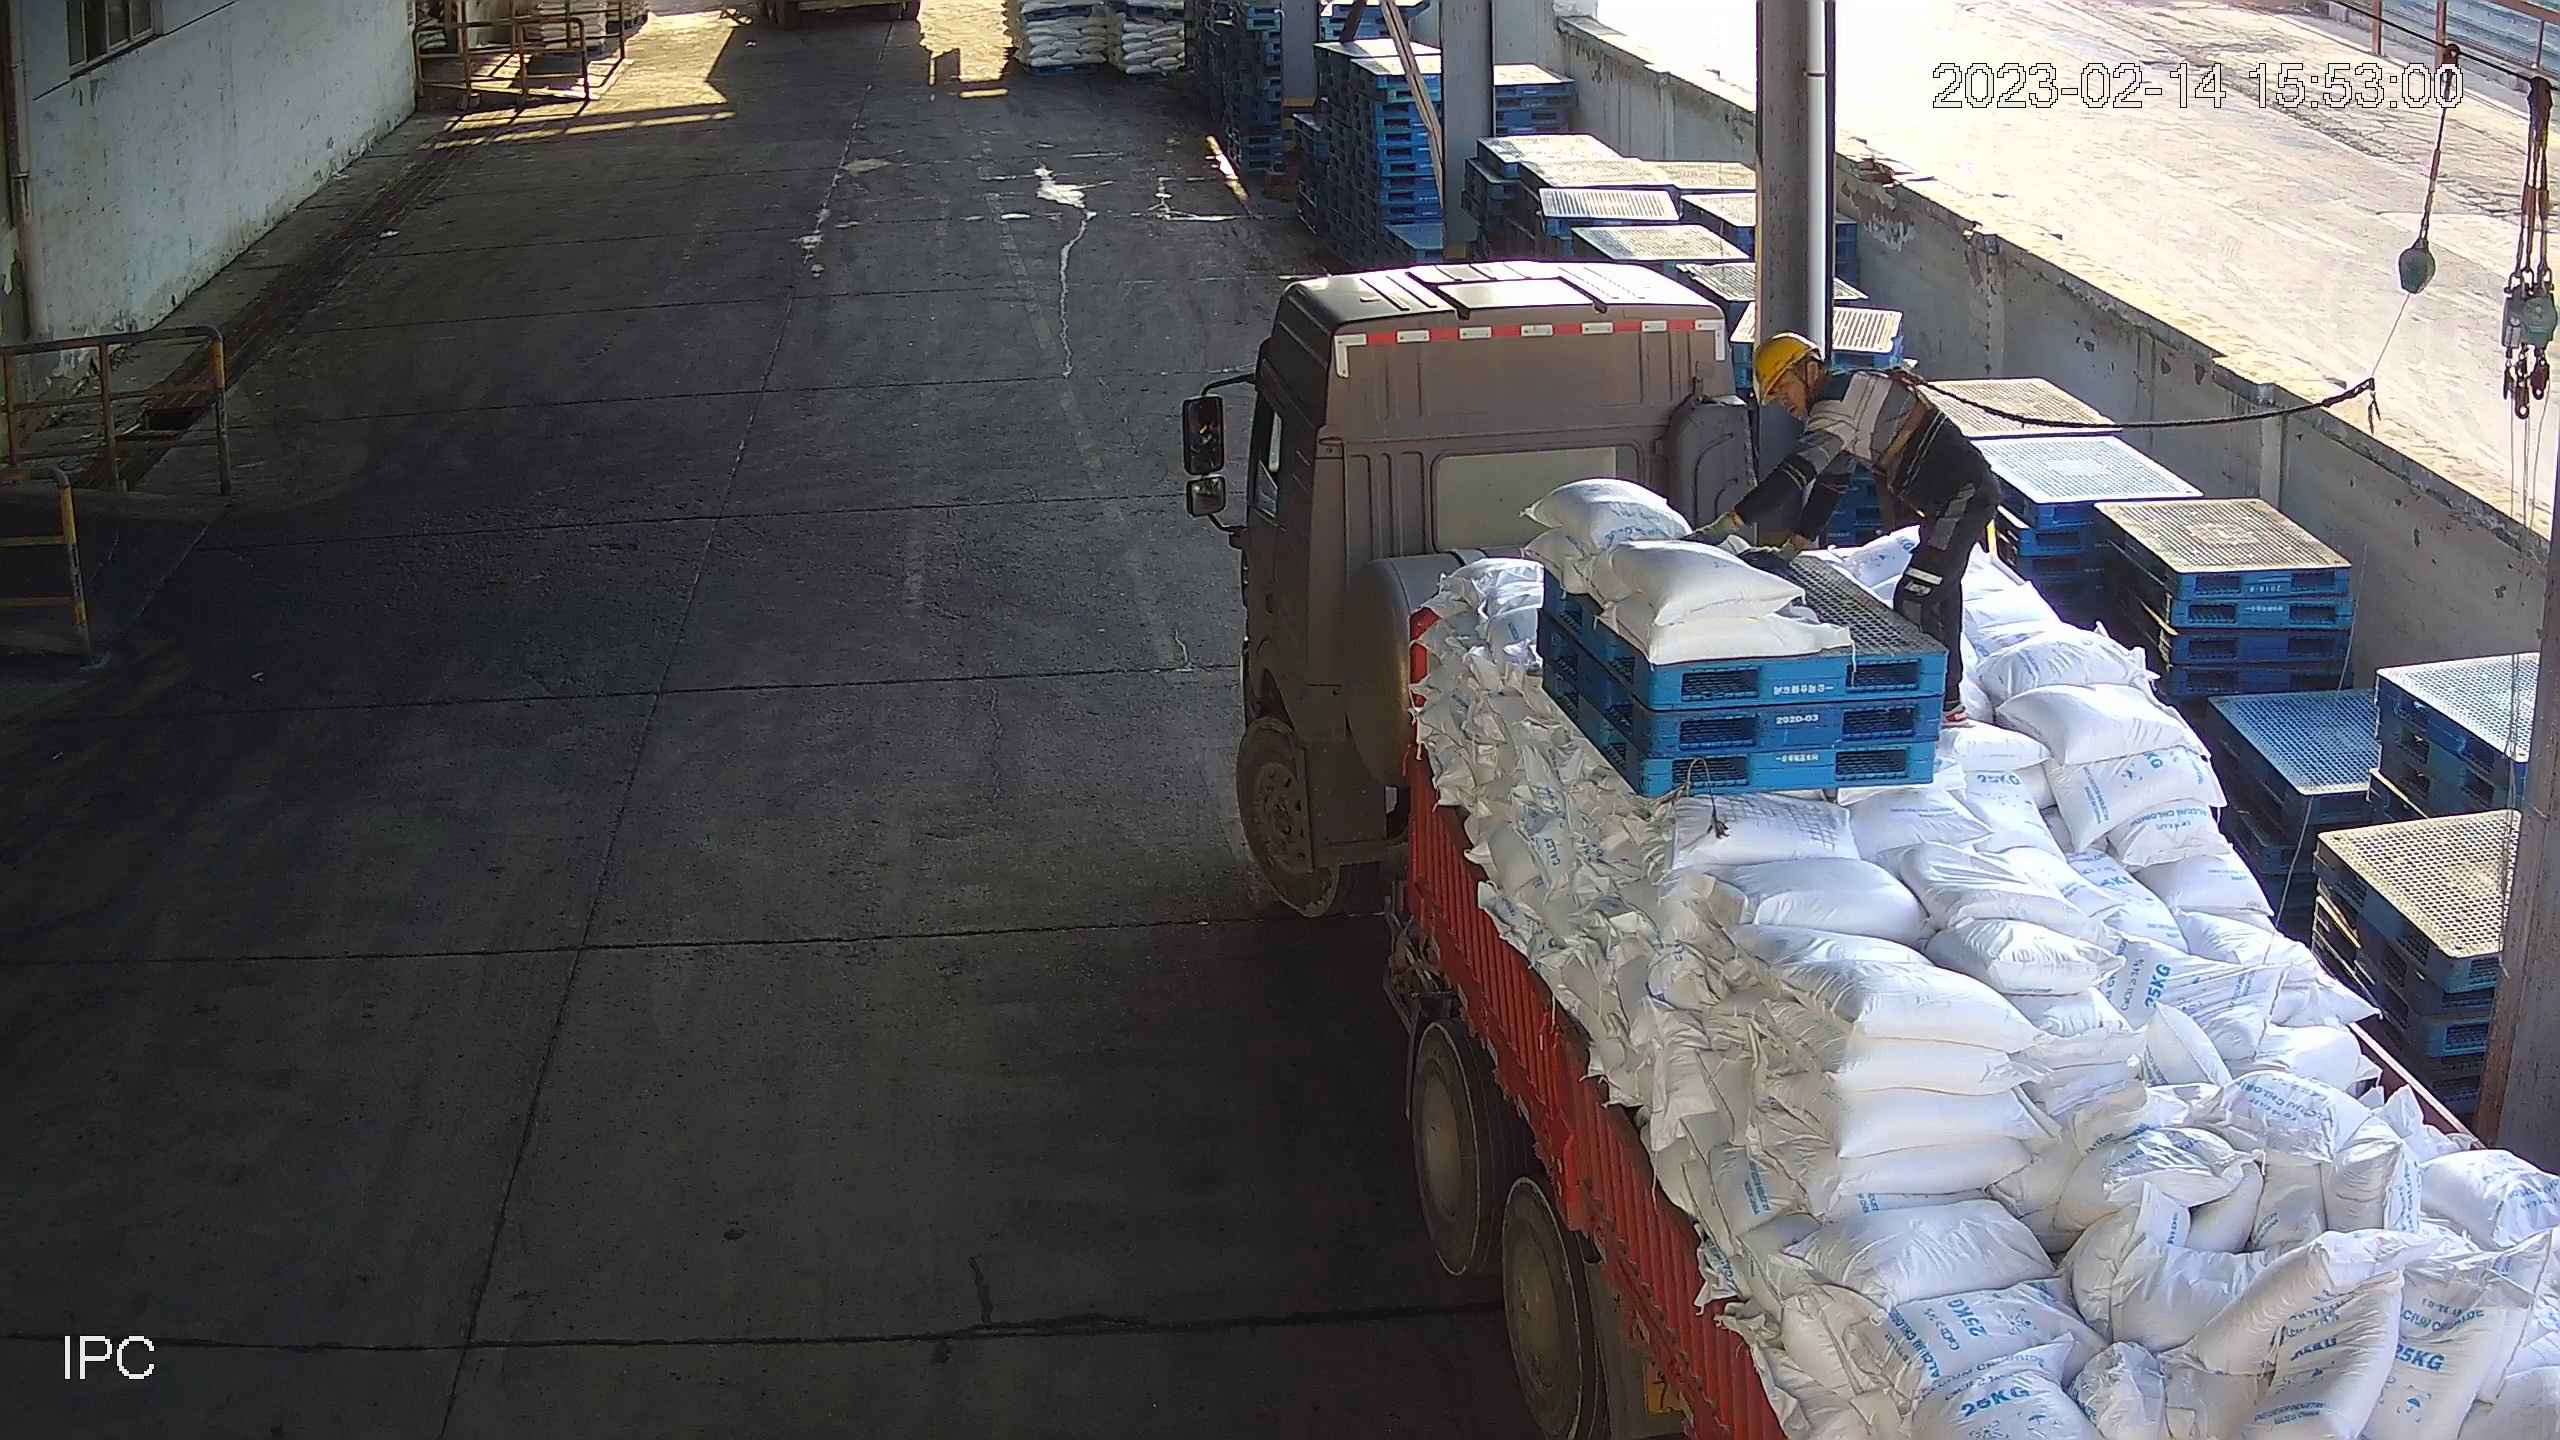belt: (1838, 365, 1949, 467)
head: (1752, 330, 1884, 457)
helmet: (1753, 330, 1821, 407)
people: (1675, 329, 2002, 726)
truck: (1181, 262, 2560, 1440)
